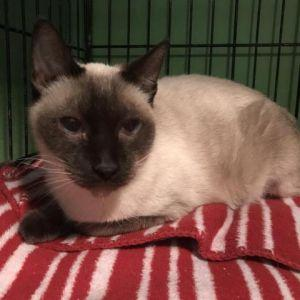siamese: (17, 17, 181, 203)
